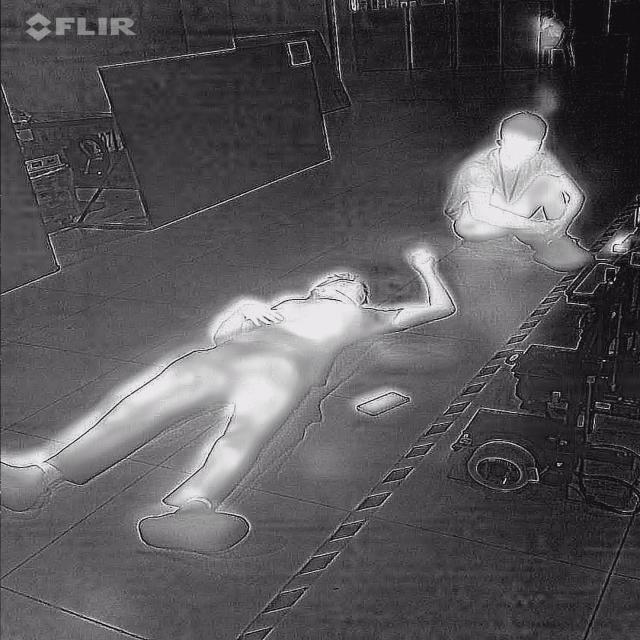Victim: (1, 241, 459, 561), (436, 100, 602, 274)
